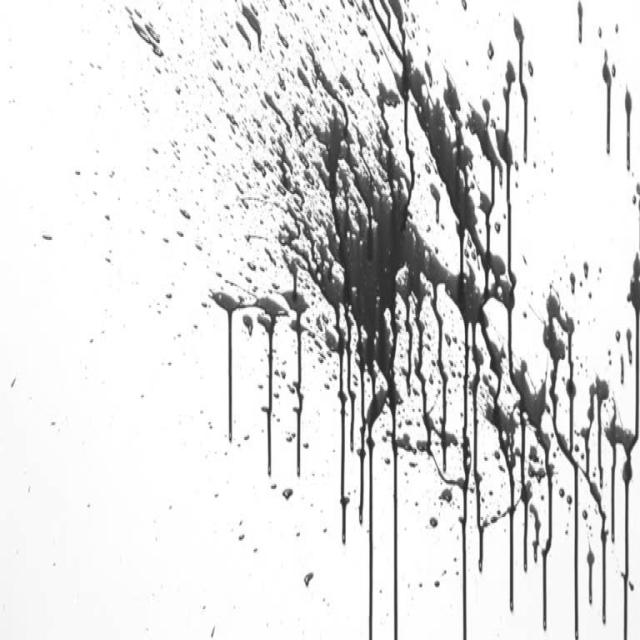paint drips: (313, 0, 640, 640), (284, 259, 309, 502), (254, 306, 281, 490), (223, 302, 238, 451)
